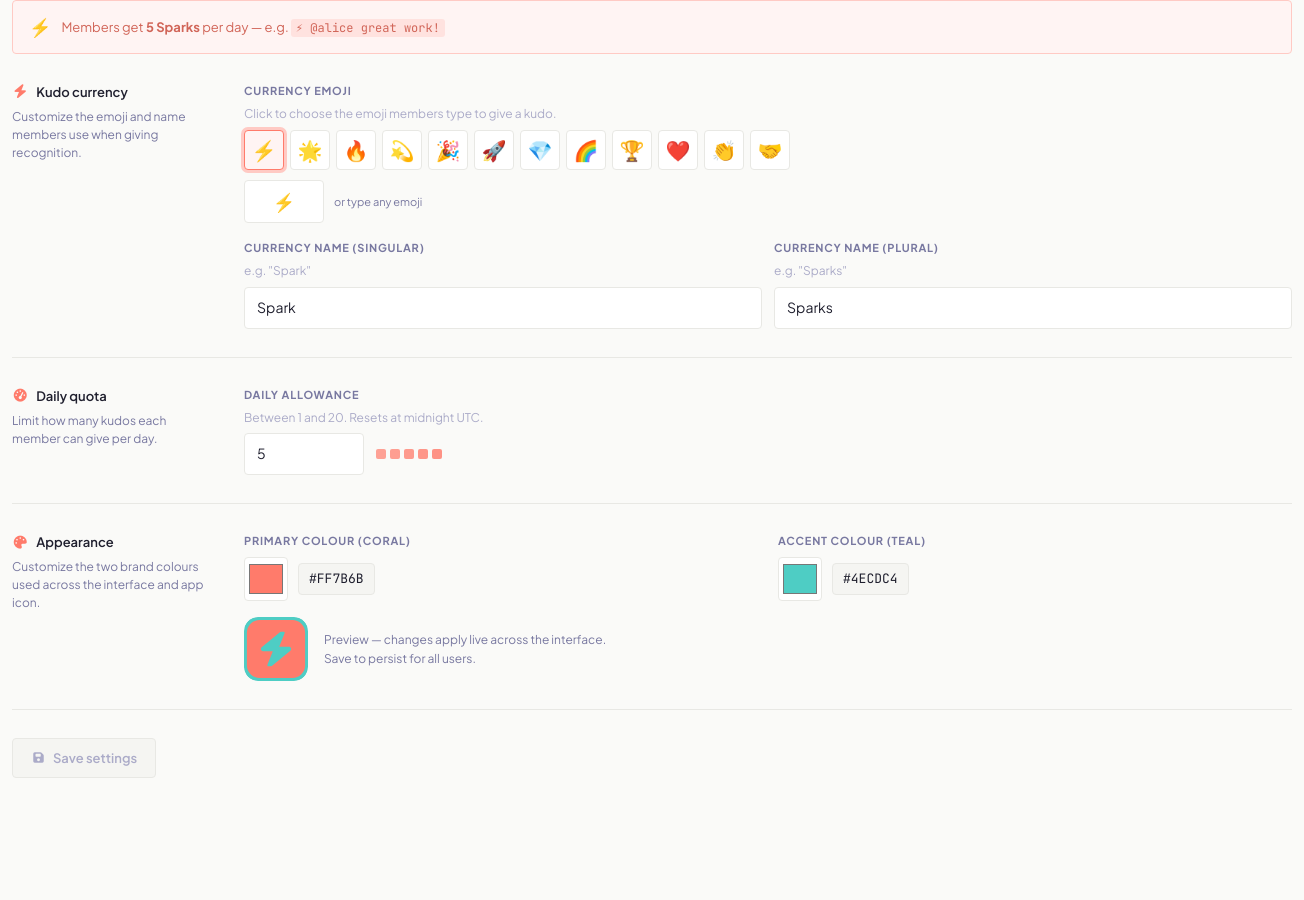
Test: AdminSettingsForm – validation › shows error when singular name is empty
This screenshot has width=1304, height=900.
Clear the field labelled "Currency name (singular)" at (503, 308), box [244,287,762,329]
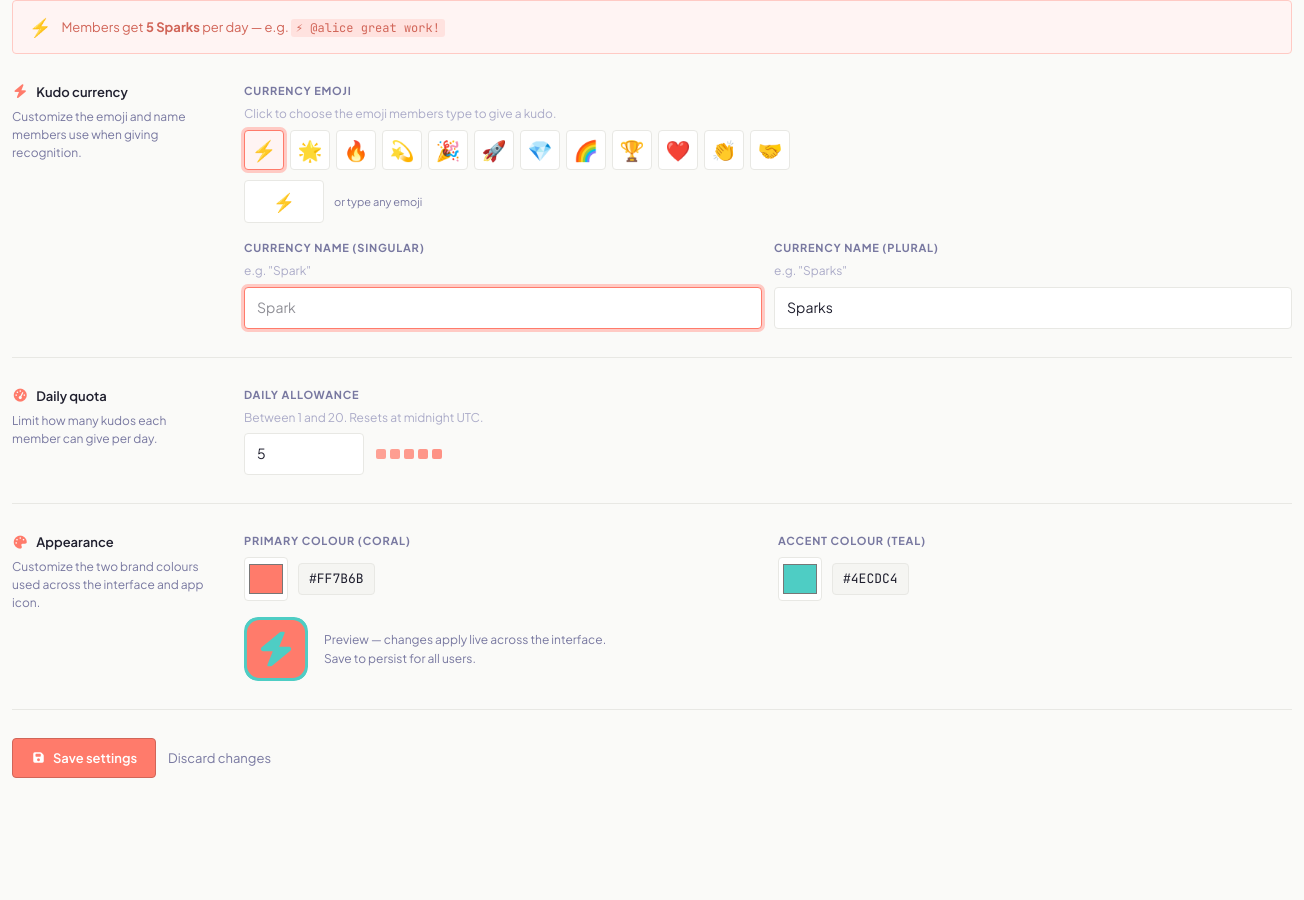
Click the button "Save settings" at (84, 758), box [12,738,156,778]
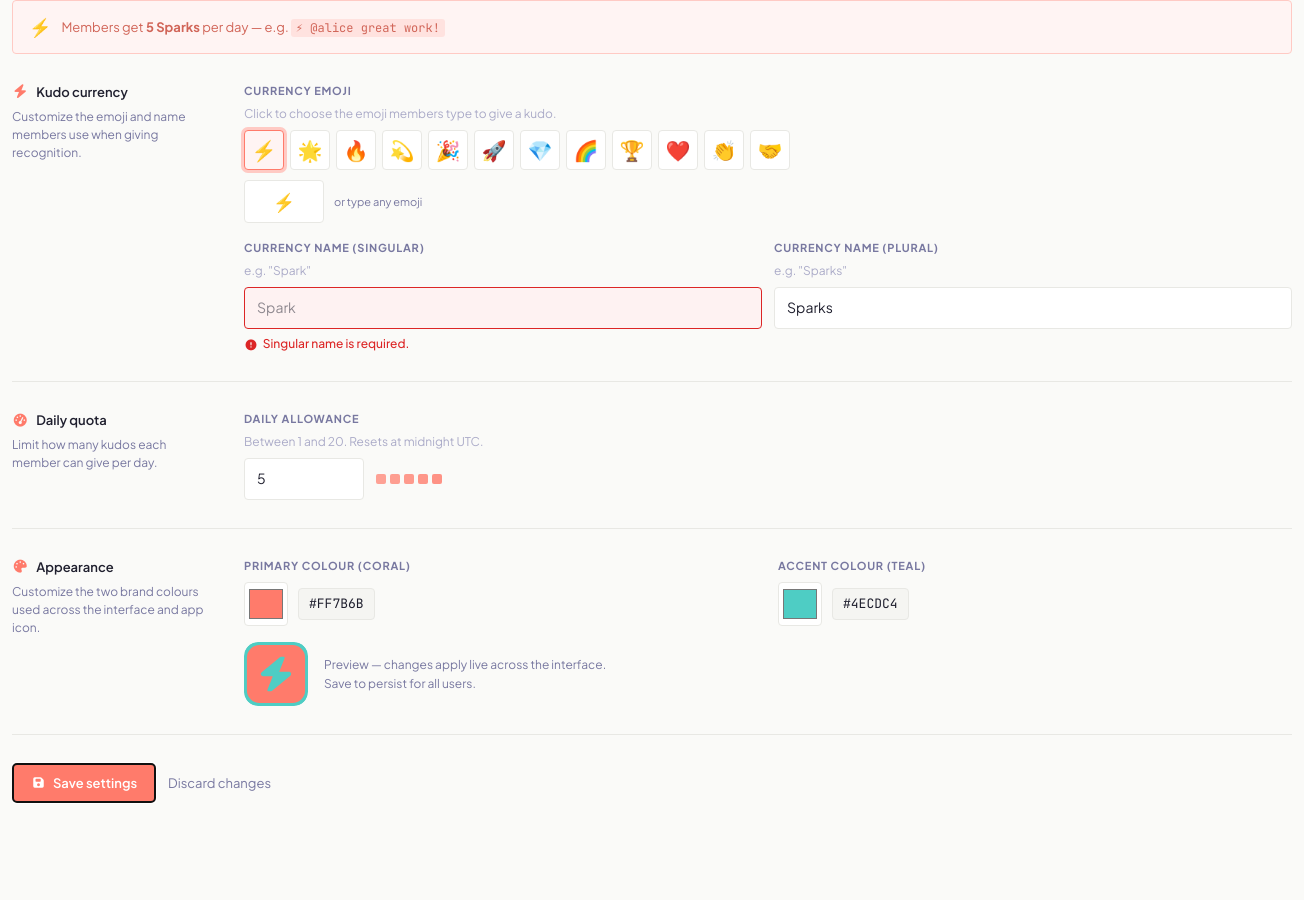
expect the text "Singular name is required." is shown: met, box [244,336,409,351]
